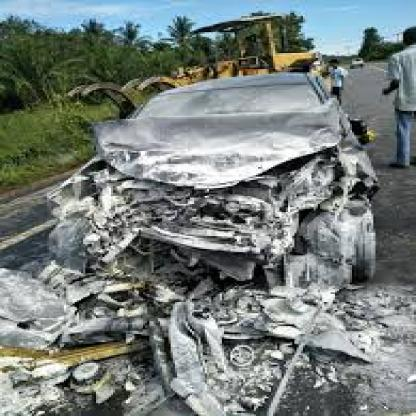accident: (28, 62, 416, 355)
